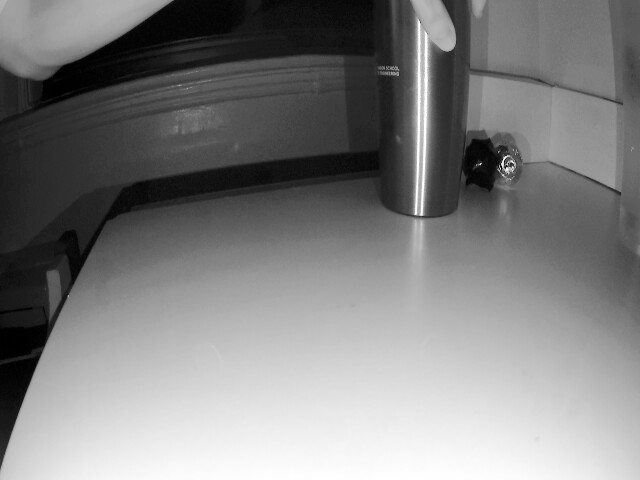black: (494, 139, 528, 182)
silver: (460, 141, 494, 188)
